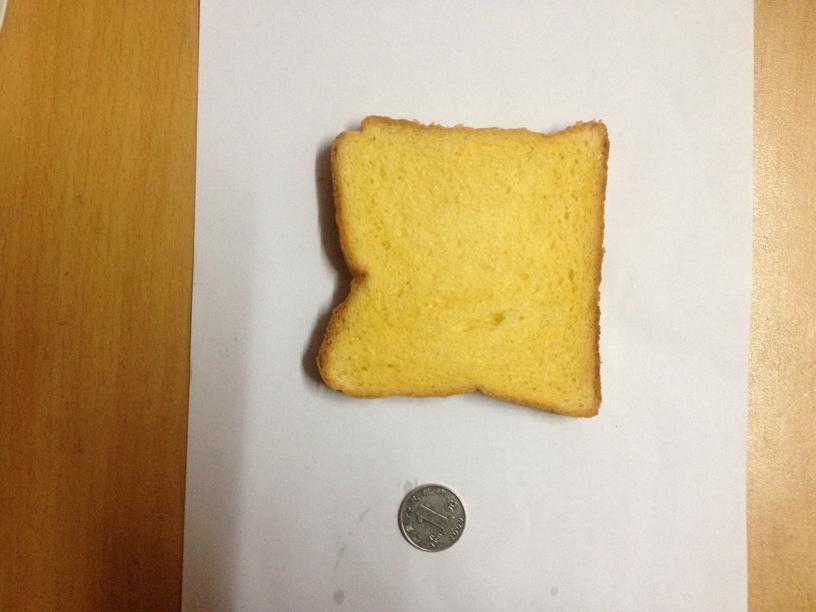bread: (316, 106, 609, 418)
coin: (397, 486, 463, 551)
